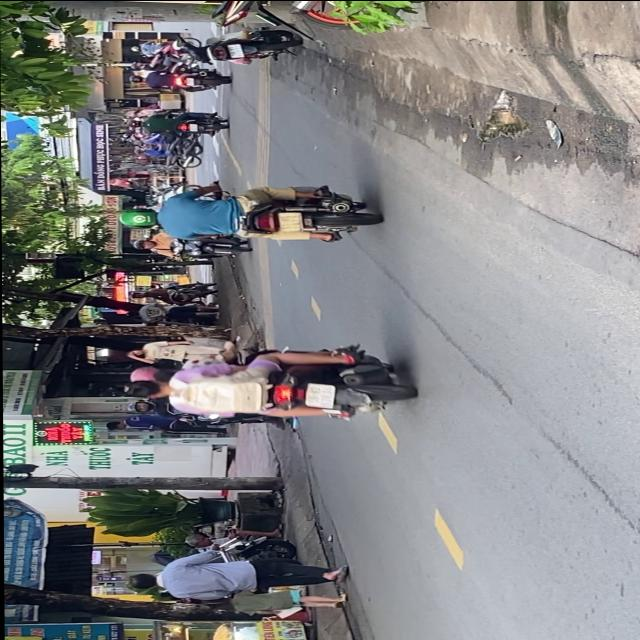helmet: (118, 207, 158, 229), (128, 365, 168, 383)
licenseplate: (121, 343, 414, 425), (116, 182, 378, 246)
motorcyclist: (125, 378, 169, 399)
nohelmet: (303, 383, 333, 408), (278, 212, 302, 232)
